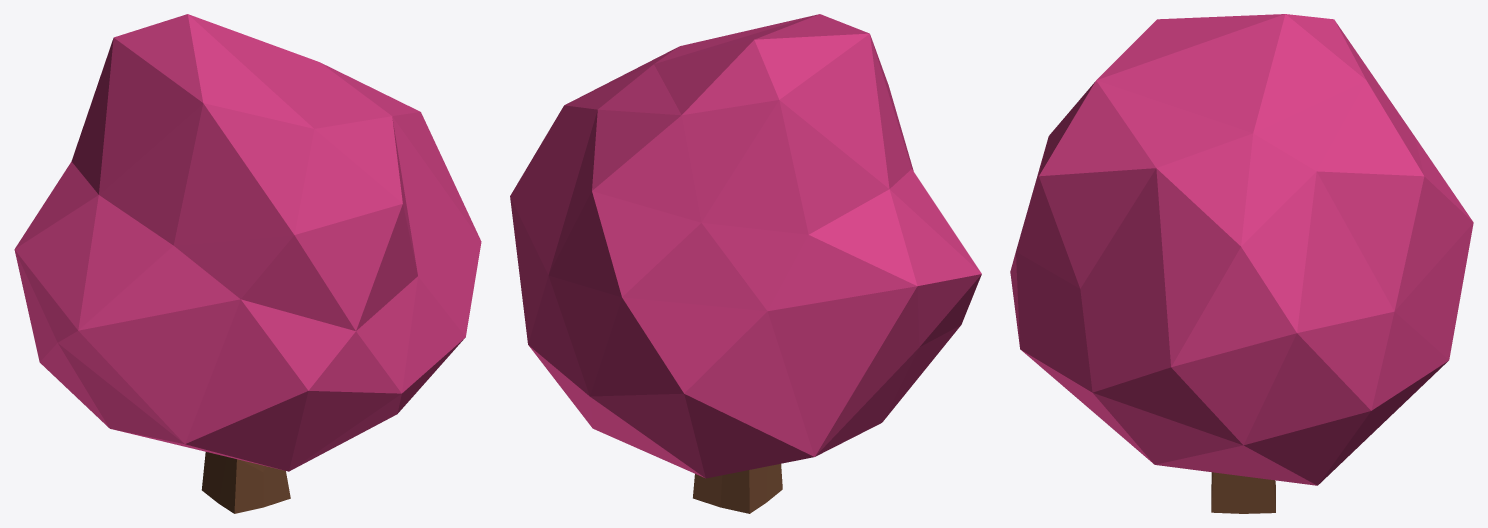
The model's file is Tree_3_Pink.fbx.
The picture shows the model from 3 angles, left to right: view 1: azimuth 30°, elevation 25°; view 2: azimuth 150°, elevation 25°; view 3: azimuth 270°, elevation 25°; orthographic projection. The views are drawn at different scales.
Parts seen in each view (by area): view 1: Tree_3_Pink_Part_1, Tree_3_Pink_Part_2; view 2: Tree_3_Pink_Part_1, Tree_3_Pink_Part_2; view 3: Tree_3_Pink_Part_1, Tree_3_Pink_Part_2.
Boxes of the visible parts, bbox=[...] form: Tree_3_Pink_Part_1: bbox=[14, 14, 481, 471]; Tree_3_Pink_Part_2: bbox=[201, 452, 290, 513]; Tree_3_Pink_Part_1: bbox=[510, 14, 981, 478]; Tree_3_Pink_Part_2: bbox=[693, 464, 782, 513]; Tree_3_Pink_Part_1: bbox=[1010, 14, 1473, 485]; Tree_3_Pink_Part_2: bbox=[1211, 472, 1275, 513].
Size of the model in its own units: 714 by 807 by 720.
